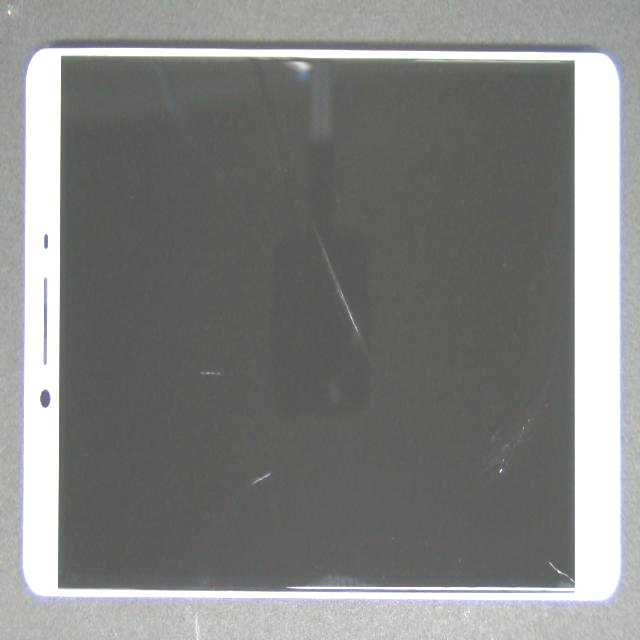scratch: (201, 168, 499, 361)
